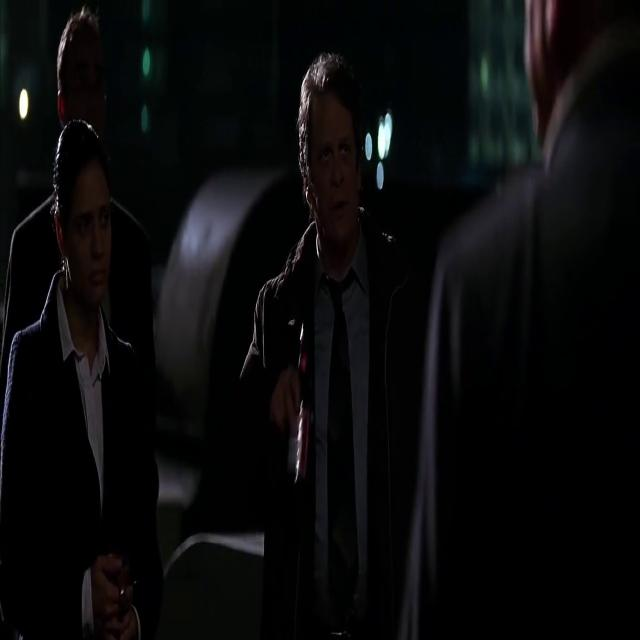People: (484, 24, 640, 640), (8, 120, 180, 605), (293, 30, 413, 640), (0, 0, 126, 246)
